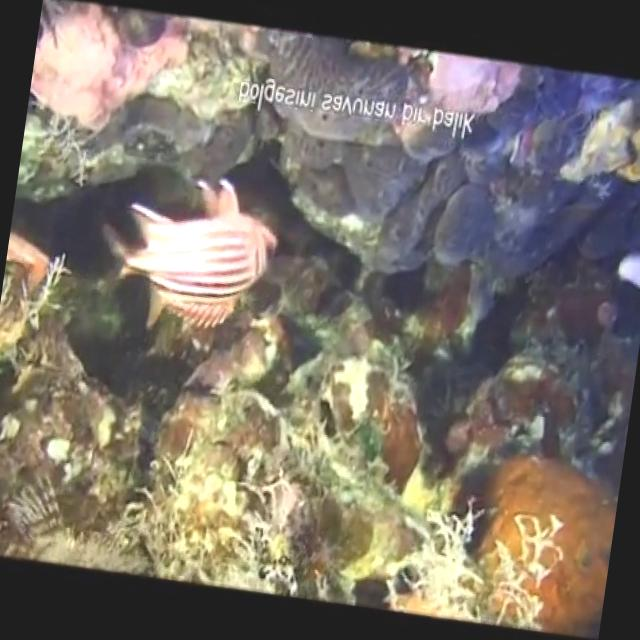Asker Baligi: (88, 160, 286, 342)
